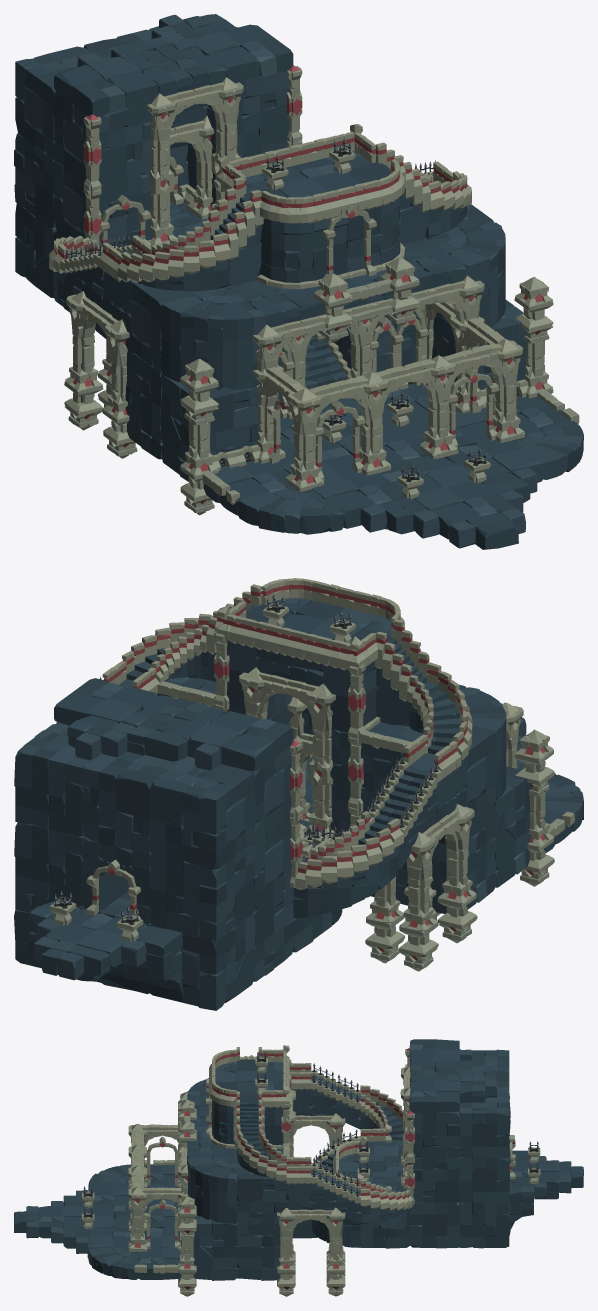
The model's file is sample_island_1.fbx.
The picture shows the model from 3 angles, top to bottom: view 1: azimuth 30°, elevation 25°; view 2: azimuth 150°, elevation 25°; view 3: azimuth 270°, elevation 25°; orthographic projection. The views are drawn at different scales.
Parts seen in each view (by area): view 1: sample_island_1; view 2: sample_island_1; view 3: sample_island_1.
Boxes of the visible parts, x1,y1,x2,y2 form: sample_island_1: [14, 14, 583, 549]; sample_island_1: [14, 578, 583, 1010]; sample_island_1: [14, 1039, 583, 1296].
Size of the model in its own units: 2154 by 1617 by 4603.
